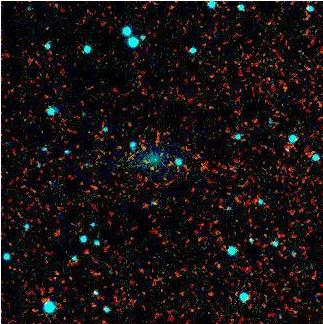star: (134, 154, 164, 184)
